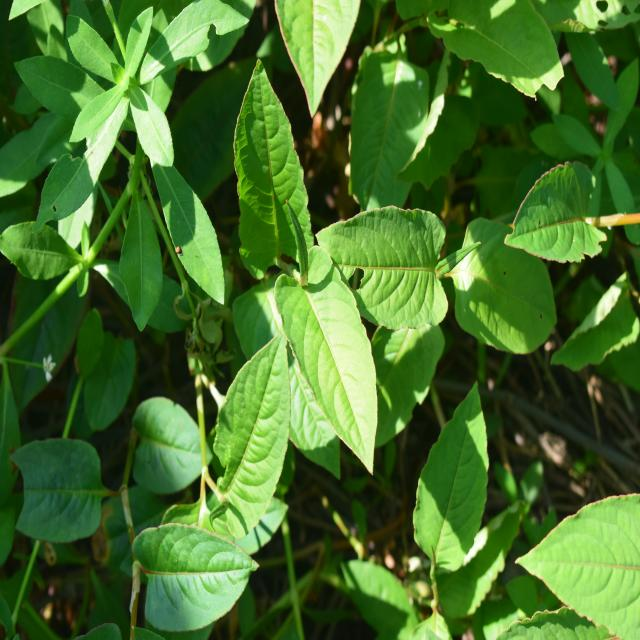Chinese_knotweed: (216, 82, 393, 444), (339, 152, 588, 368), (106, 358, 300, 614)
